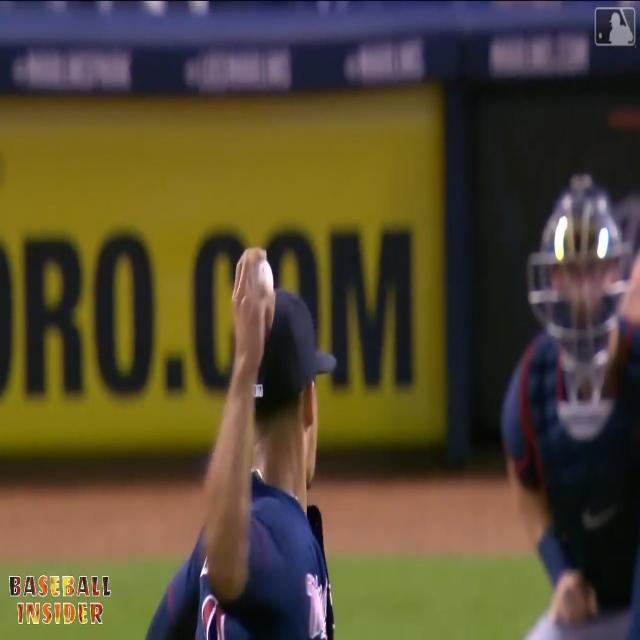baseball: (250, 254, 276, 304)
